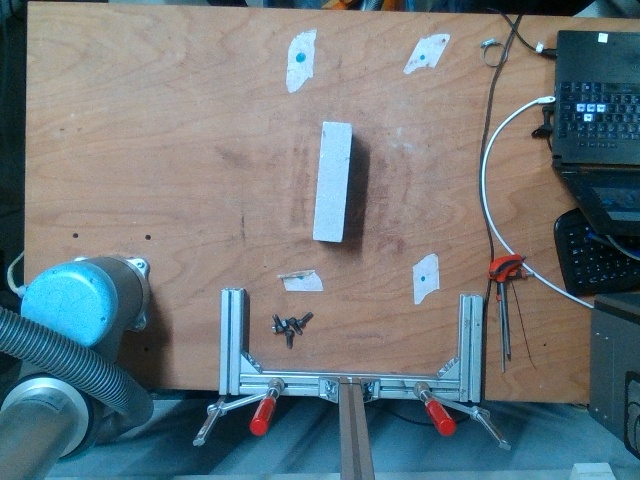brick-side: (313, 120, 354, 242)
